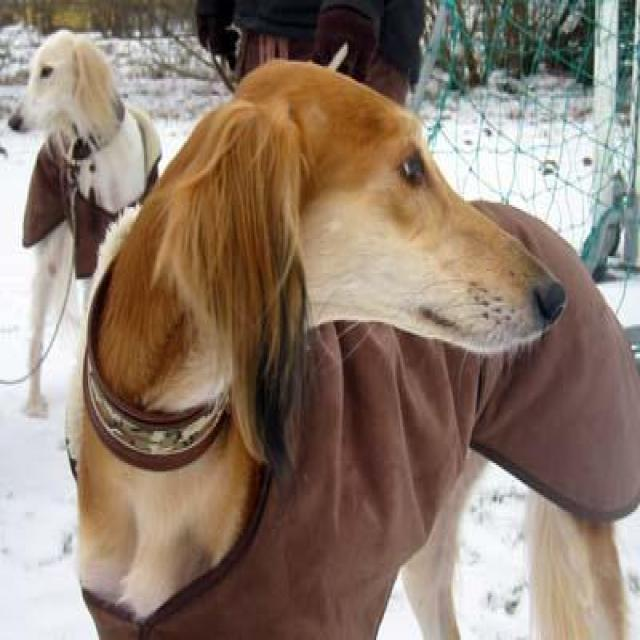saluki: (59, 57, 638, 638), (5, 25, 163, 422)
